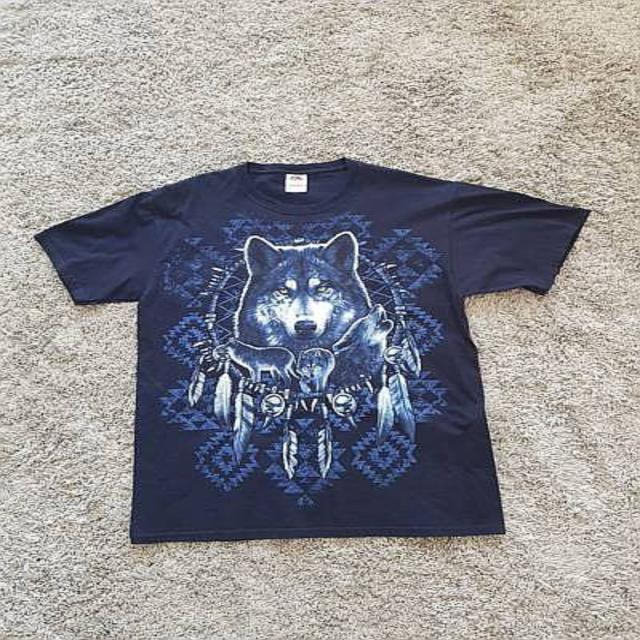T_SHIRT: (14, 148, 629, 562)
